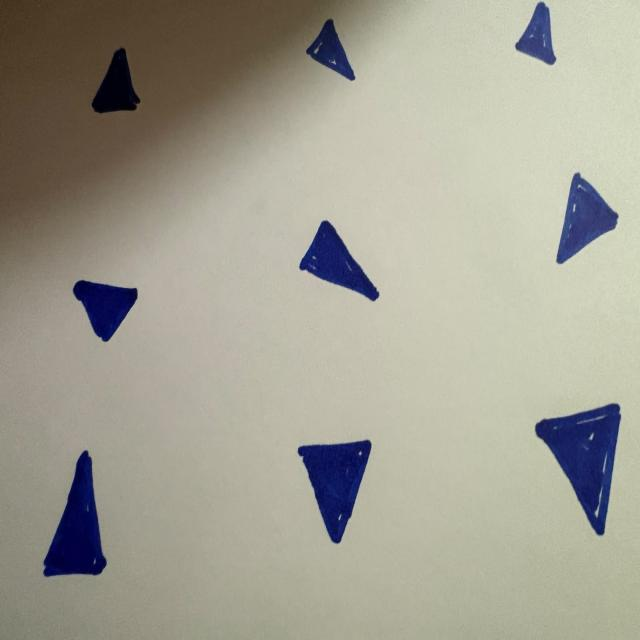Triangle: (536, 404, 620, 534), (298, 440, 370, 543), (73, 280, 137, 341), (306, 19, 355, 81), (514, 0, 557, 67)
